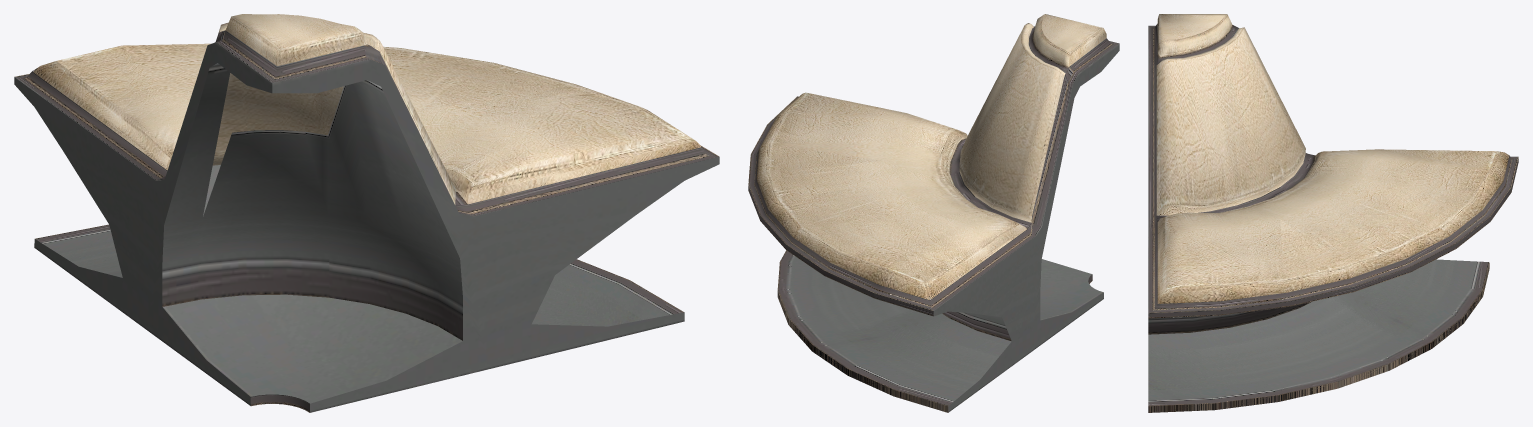
Rendered from Neon_Seat_BendOut_01.FBX.
3 renders of one model, left to right at view 1: azimuth 30°, elevation 25°; view 2: azimuth 150°, elevation 25°; view 3: azimuth 270°, elevation 25°, orthographic. The views are drawn at different scales.
Visible parts, largest first — view 1: Neon_Seat_BendOut_01; view 2: Neon_Seat_BendOut_01; view 3: Neon_Seat_BendOut_01.
Boxes of the visible parts, x1,y1,x2,y2 form: Neon_Seat_BendOut_01: (14,14,719,412); Neon_Seat_BendOut_01: (748,14,1119,412); Neon_Seat_BendOut_01: (1148,14,1518,412).
Bounding box in the file's own units: 1.25 × 0.9734 × 1.25.
